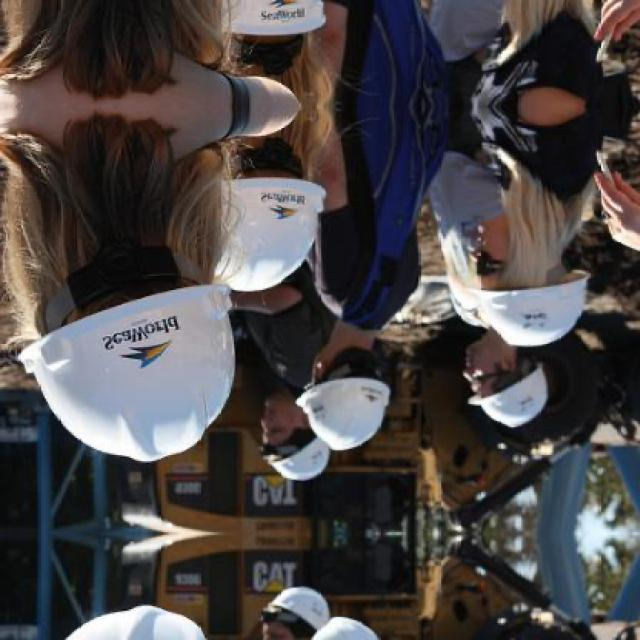con casco: (1, 264, 224, 473), (200, 148, 314, 298), (458, 238, 584, 344), (293, 348, 403, 450), (443, 336, 530, 426), (229, 419, 326, 481)
